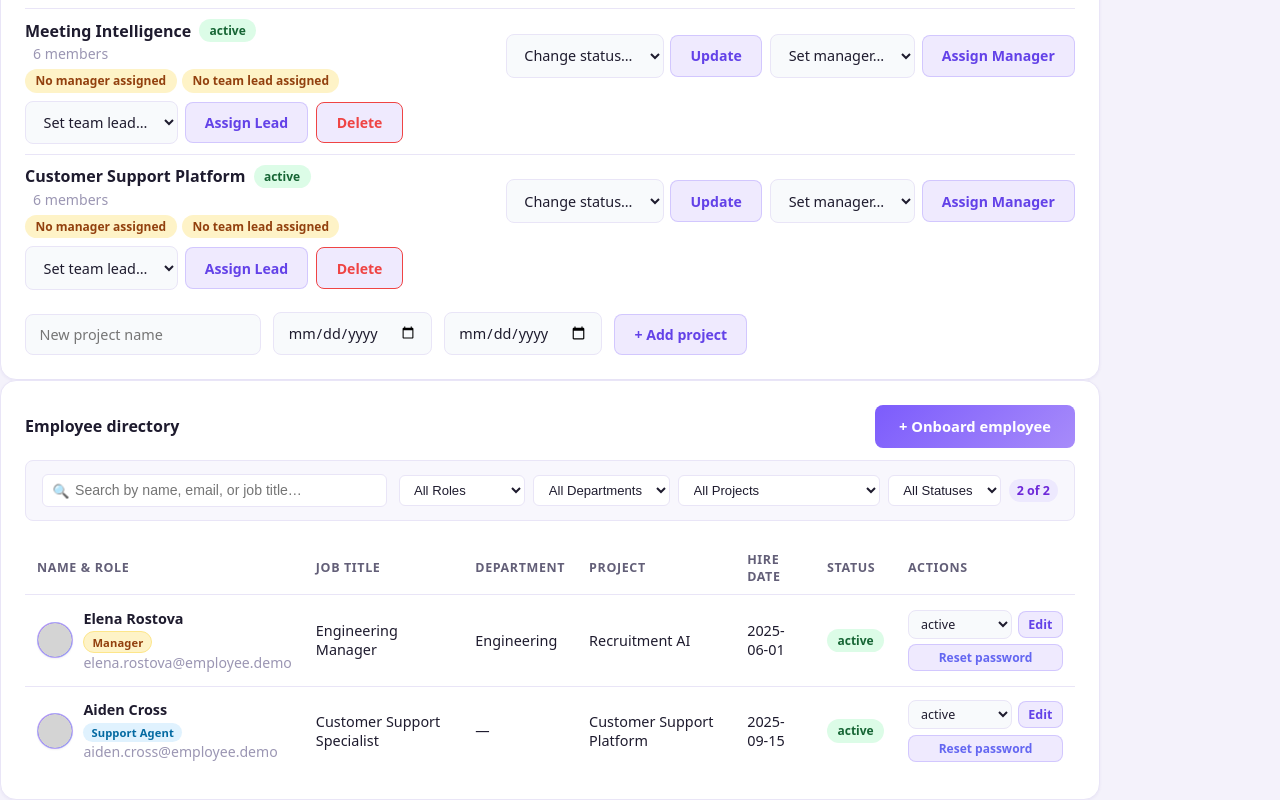
Scenario: EmployeeManagement Page › opens edit modal on edit button click
(page scrolled)
Click the button "Edit" in the row of "Elena Rostova". click: (1040, 624)
box: x1=1018 y1=611 x2=1063 y2=638
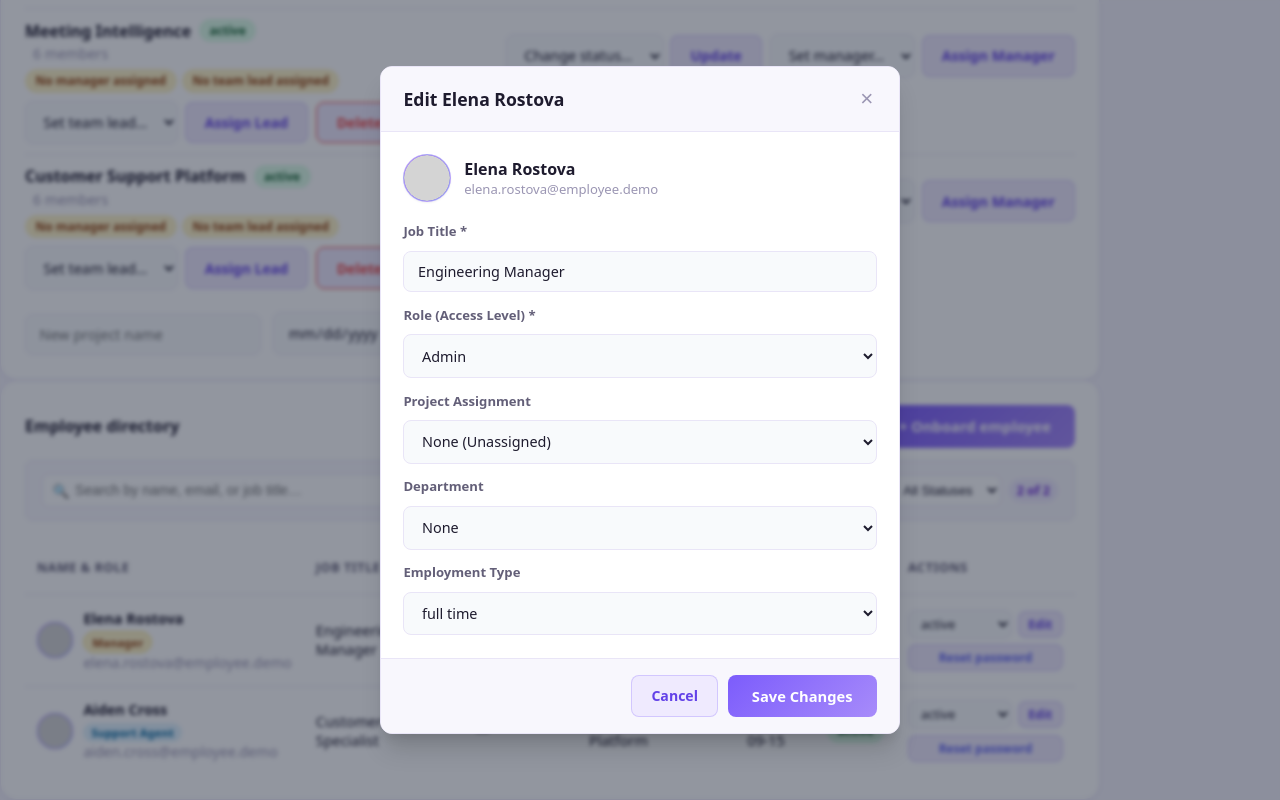
Expected: the element with class "modal-dialog" shows "Edit Elena Rostova", x1=380 y1=66 x2=900 y2=734
